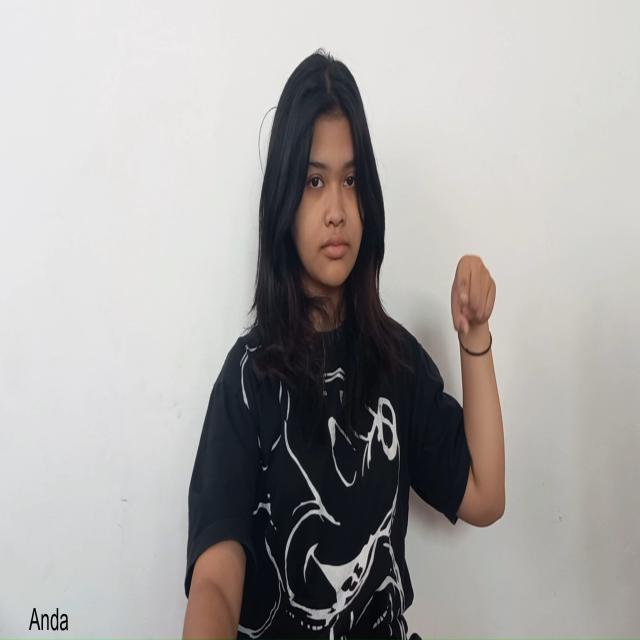Anda -BISINDO-: (449, 250, 498, 357)
